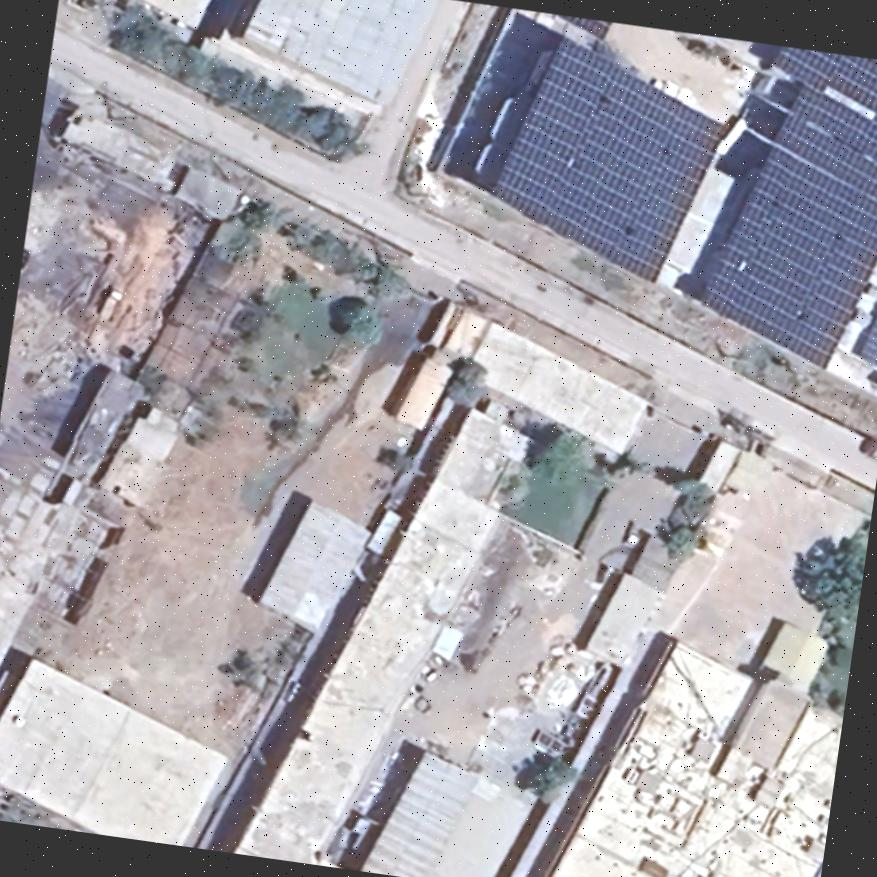Solarpanel: (693, 43, 877, 379), (484, 31, 727, 284), (853, 305, 877, 364), (561, 15, 612, 37)
